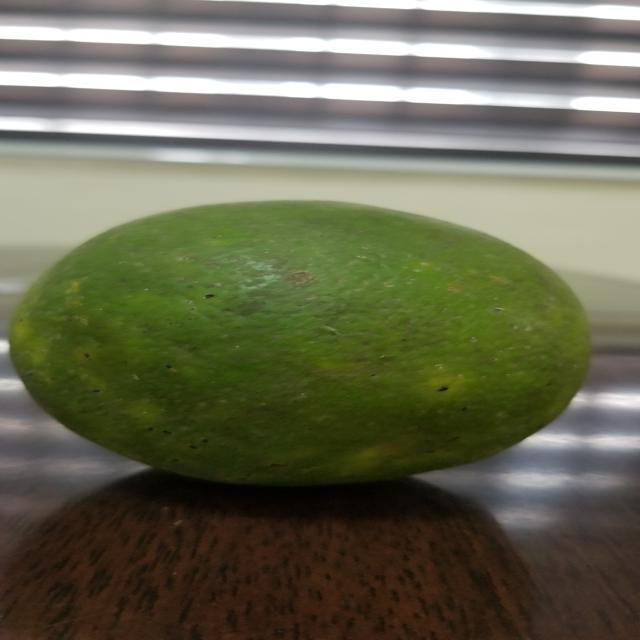Ripe orange: (6, 190, 624, 514)
